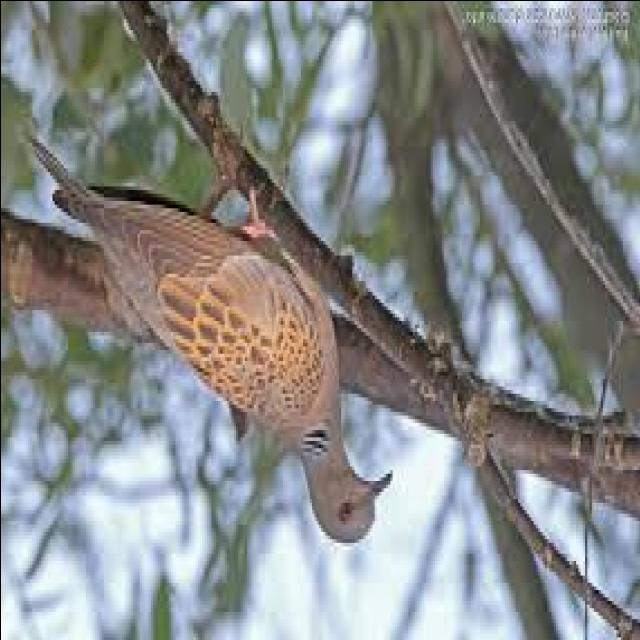pigeon: (44, 138, 404, 584)
